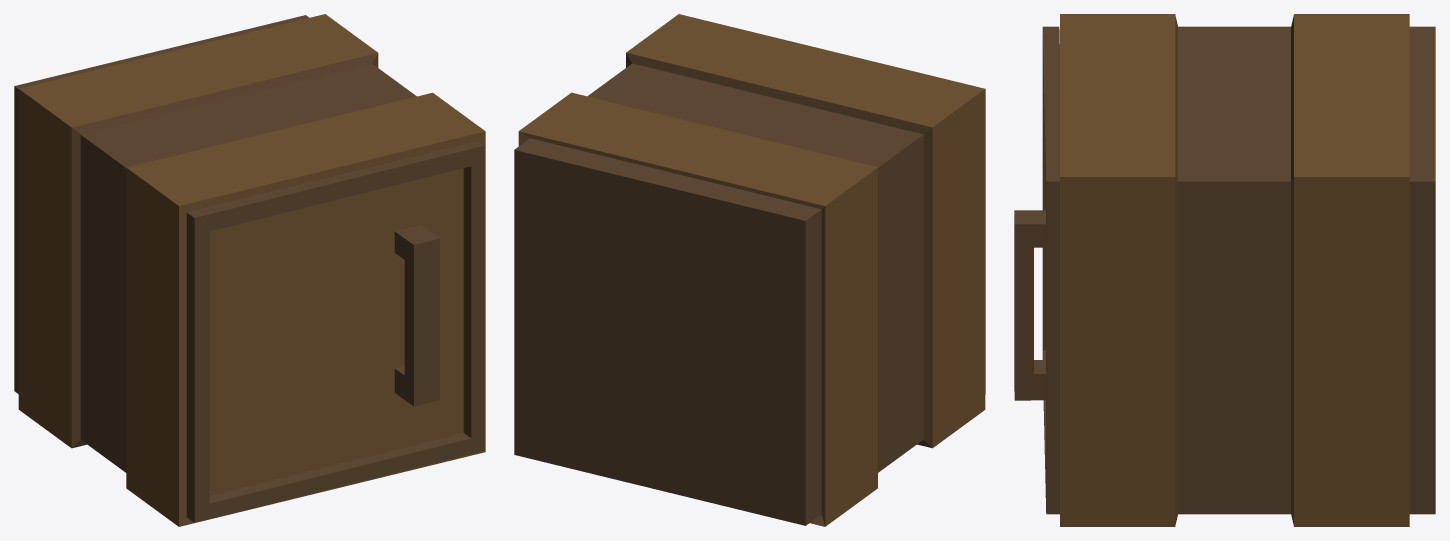
File: armario 1.fbx
3 views of the same model, side by side, from view 1: azimuth 30°, elevation 25°; view 2: azimuth 150°, elevation 25°; view 3: azimuth 270°, elevation 25° (orthographic). The views are drawn at different scales.
Visible parts, largest first — view 1: armario1.001, porta armario.001; view 2: armario1.001; view 3: armario1.001, porta armario.001.
Boxes of the visible parts, x1,y1,x2,y2 form: armario1.001: [14, 14, 485, 526]; porta armario.001: [186, 141, 484, 522]; armario1.001: [514, 14, 985, 526]; armario1.001: [1060, 14, 1435, 526]; porta armario.001: [1014, 26, 1059, 514].
Size of the model in its own units: 513 by 513 by 560.
